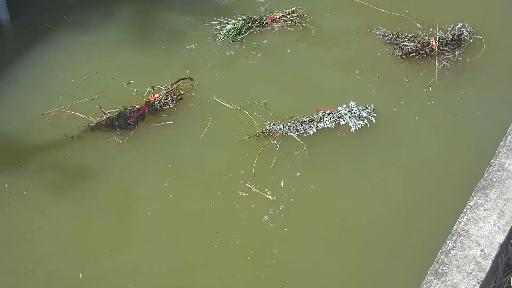twig: (328, 0, 497, 87), (192, 94, 391, 165), (54, 62, 213, 148), (220, 6, 310, 43)
